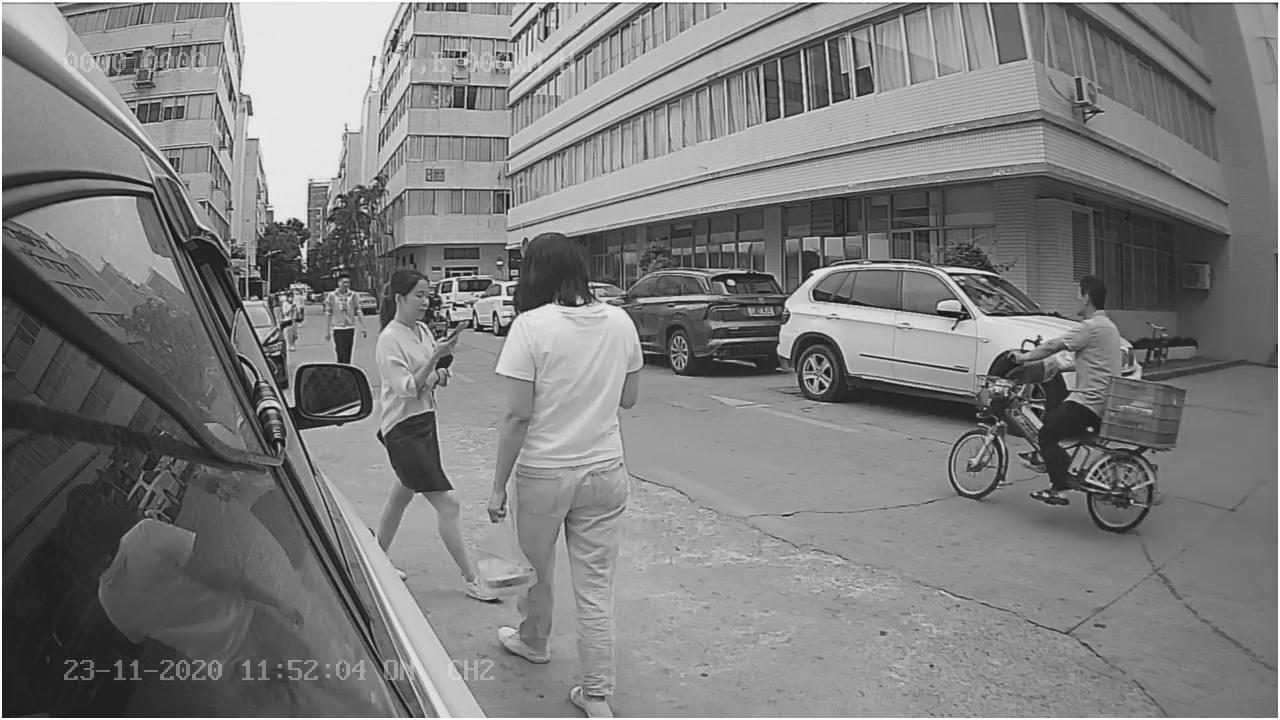person: (482, 227, 645, 720), (1006, 252, 1124, 379), (367, 267, 456, 381)
